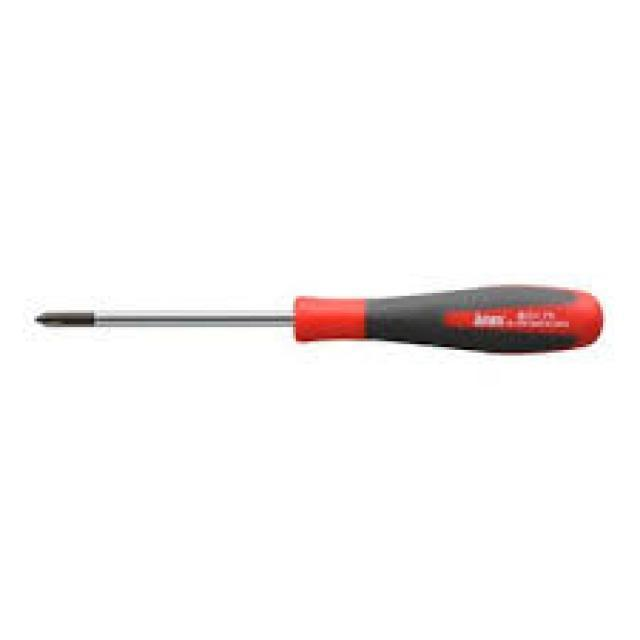screwdriver: (25, 280, 606, 357)
